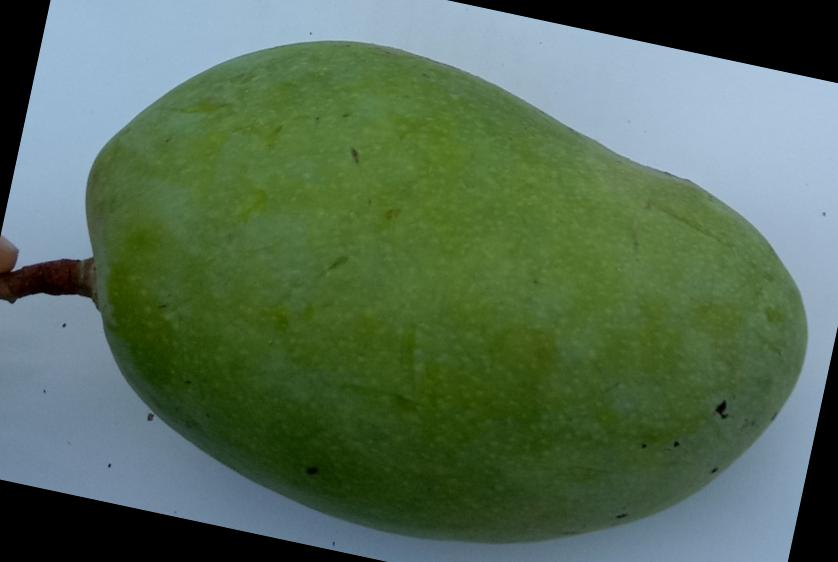Mango Unripe: (22, 0, 838, 562)
